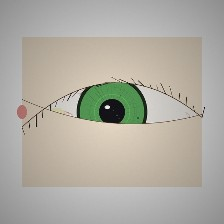pinguecula_lesion: (37, 99, 75, 129)
